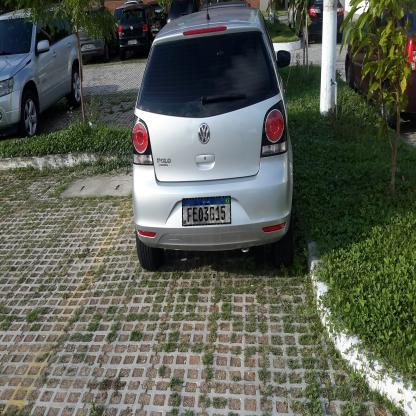PlacaM: (182, 196, 231, 226)
